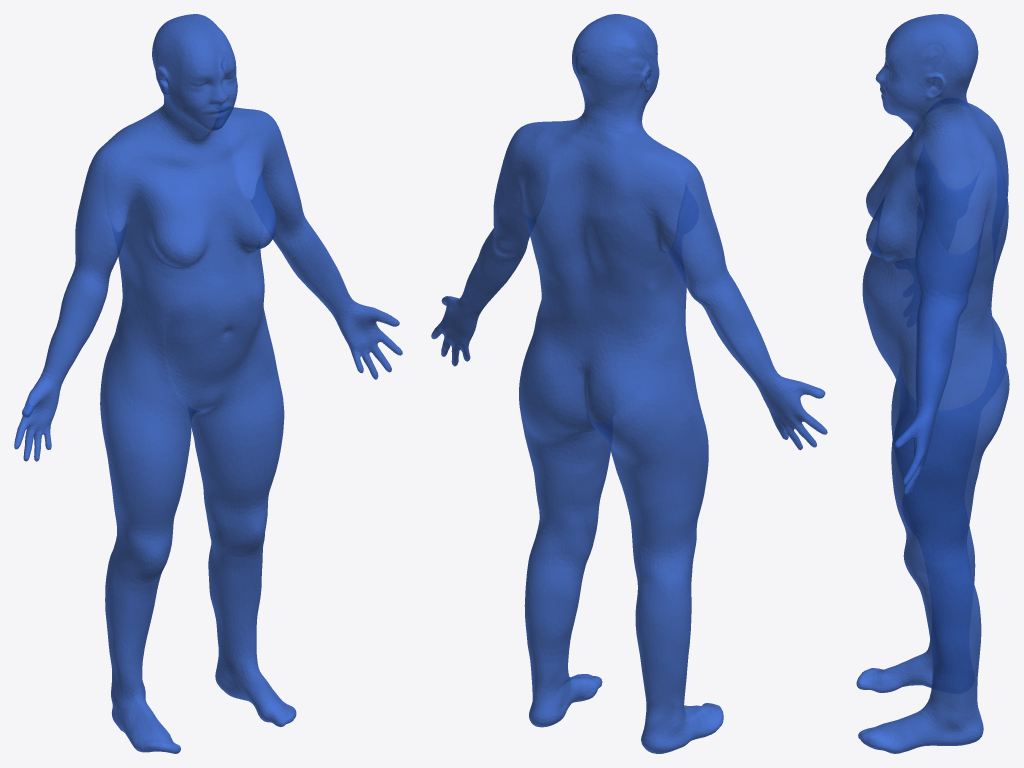
Rendered from skin-preview.glb.
3 views of the same model, side by side, from view 1: azimuth 30°, elevation 25°; view 2: azimuth 150°, elevation 25°; view 3: azimuth 270°, elevation 25° (orthographic).
Parts seen in each view (by area): view 1: VH_F_skin; view 2: VH_F_skin; view 3: VH_F_skin.
Boxes of the visible parts, <box> form: VH_F_skin: <box>14,14,402,753</box>; VH_F_skin: <box>431,14,827,753</box>; VH_F_skin: <box>856,14,1009,753</box>.
Bounding box in the file's own units: 0.9617 × 1.66 × 0.3273.
